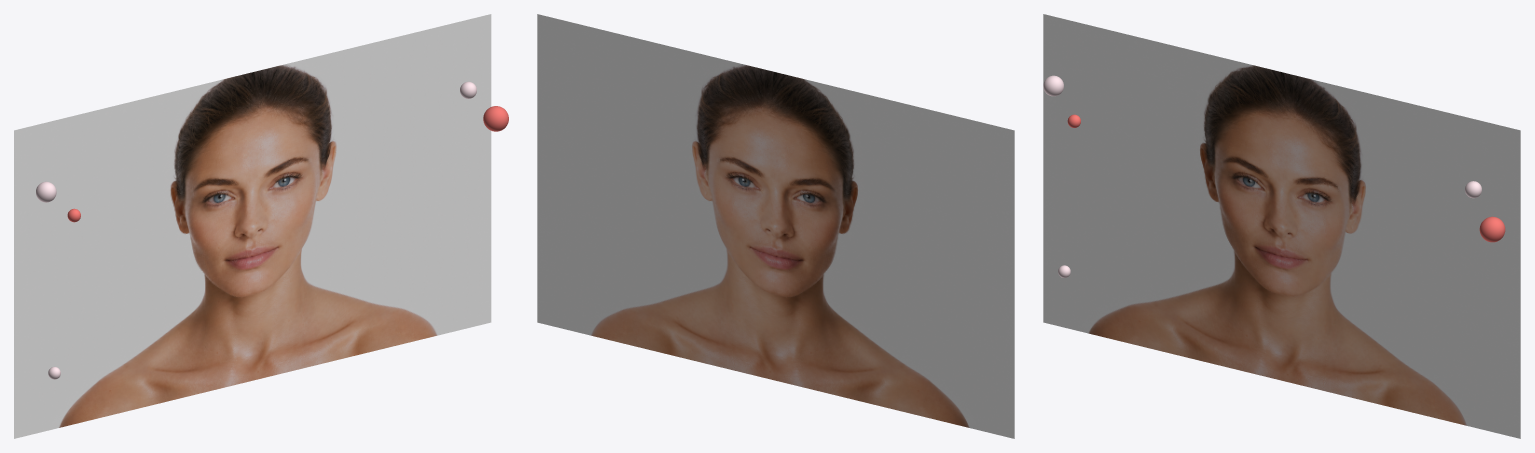
The model's file is genosys-athlete-face-hero-real-optimized.glb.
The picture shows the model from 3 angles, left to right: view 1: azimuth 30°, elevation 25°; view 2: azimuth 150°, elevation 25°; view 3: azimuth 330°, elevation 25°; orthographic projection.
Visible parts, largest first — view 1: real_generated_lady_face_glb_portrait, floating_skin_science_orb_1, floating_skin_science_orb_2; view 2: real_generated_lady_face_glb_portrait; view 3: real_generated_lady_face_glb_portrait, floating_skin_science_orb_1, floating_skin_science_orb_2.
Part boxes in pixels (box(x1,y1,x2,y2)): real_generated_lady_face_glb_portrait: box(14, 14, 491, 438); floating_skin_science_orb_1: box(36, 81, 476, 379); floating_skin_science_orb_2: box(67, 106, 508, 222); real_generated_lady_face_glb_portrait: box(537, 14, 1014, 438); real_generated_lady_face_glb_portrait: box(1043, 14, 1520, 438); floating_skin_science_orb_1: box(1043, 75, 1481, 277); floating_skin_science_orb_2: box(1067, 114, 1505, 242).
Size of the model in its own units: 4.5 by 2.78 by 0.375.
3 materials, 1 textured.
